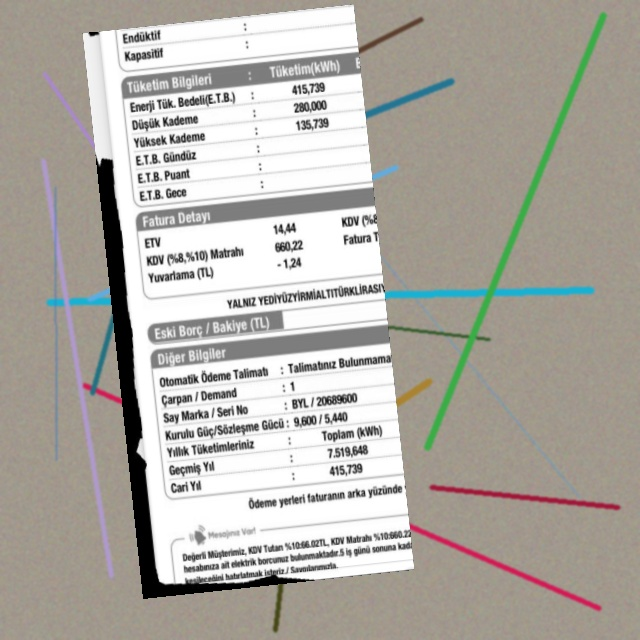electricity-bill: (82, 4, 414, 599)
